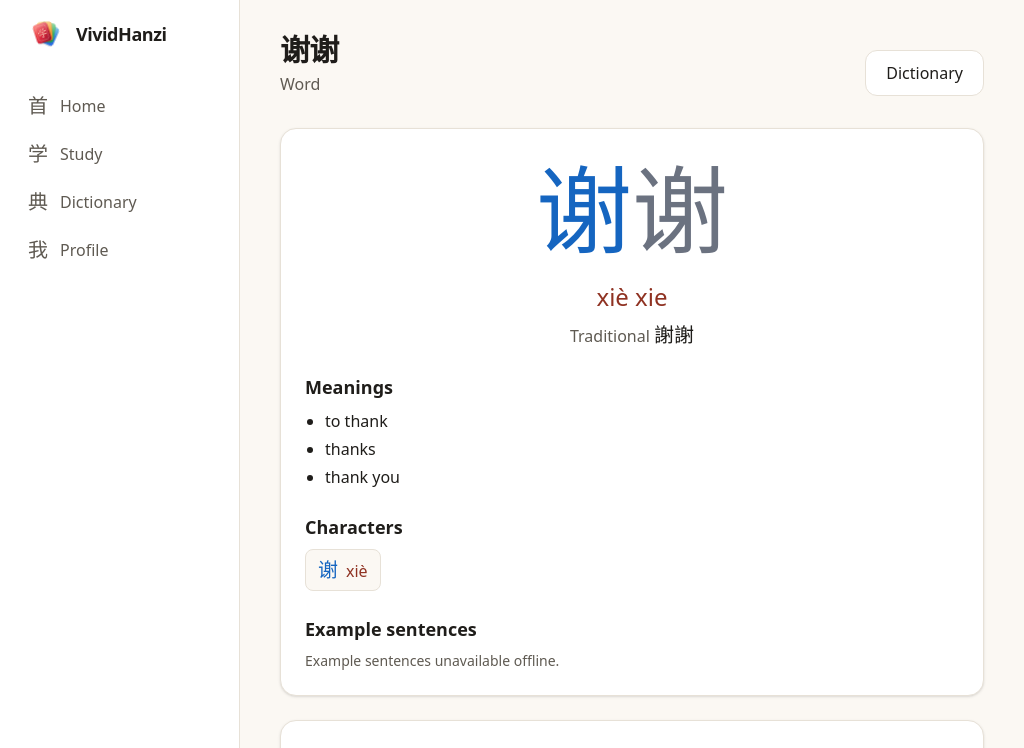
Scenario: EntryDetailPage › shows a word entry with its characters
This screenshot has width=1024, height=748.
Expected: the text "xiè xie" is shown, [596, 280, 668, 313]
What coordinates should you click on to do the following:
click the link "谢 xiè"
I would click on:
 (343, 570)
Its box is [305, 549, 381, 591].
(page scrolled)
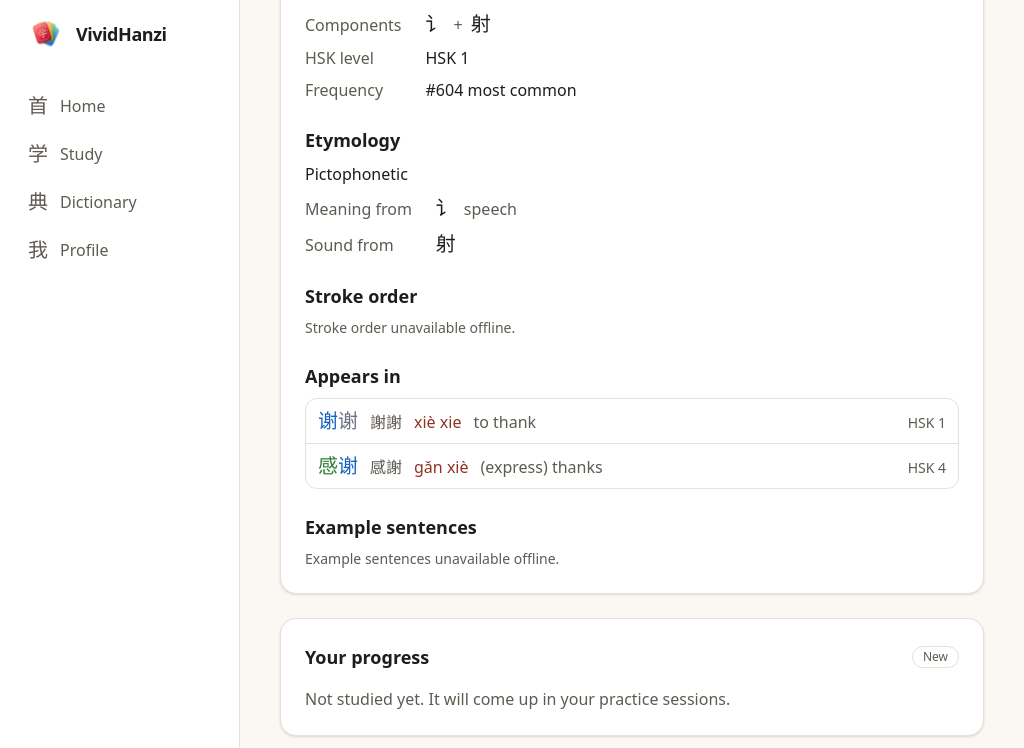
Expected: the heading "Appears in" is shown, [305, 364, 401, 388]
